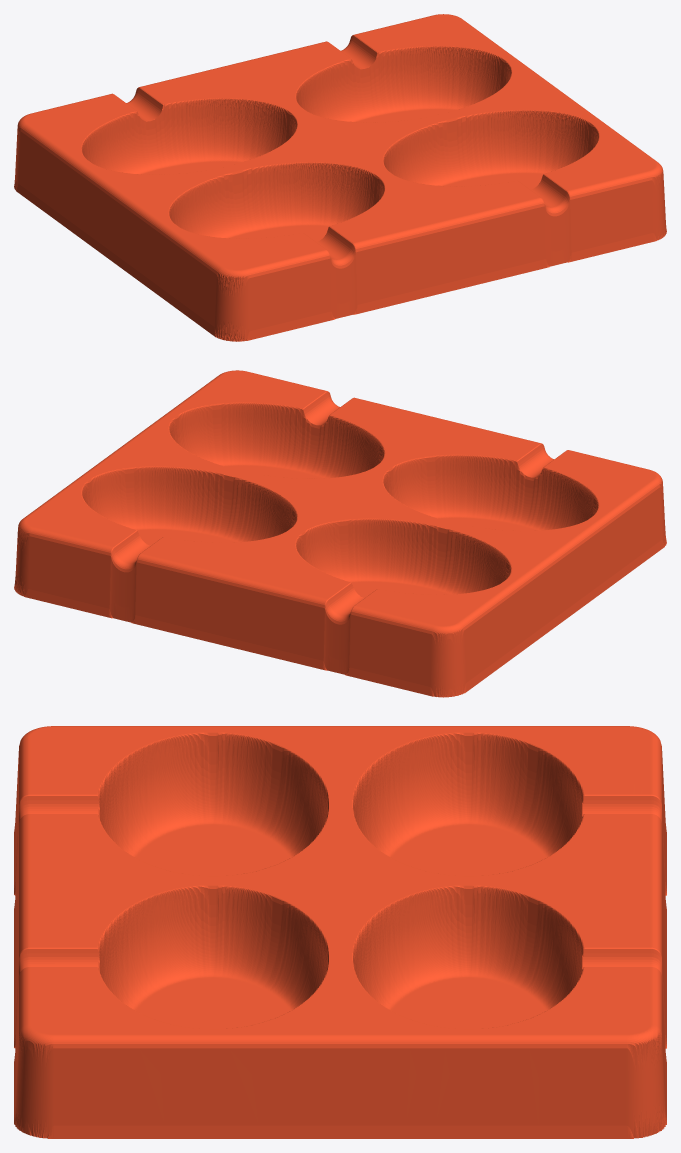
File: mold.glb
3 views of the same model, one above another, from view 1: azimuth 30°, elevation 25°; view 2: azimuth 150°, elevation 25°; view 3: azimuth 270°, elevation 25° (orthographic). The views are drawn at different scales.
Parts seen in each view (by area): view 1: geometry_0; view 2: geometry_0; view 3: geometry_0.
Boxes of the visible parts, box(x1,y1,x2,y2) form: geometry_0: box(14, 14, 666, 341); geometry_0: box(14, 370, 666, 697); geometry_0: box(14, 726, 666, 1138).
Bounding box in the file's own units: 0.1726 × 0.0245 × 0.1485.
